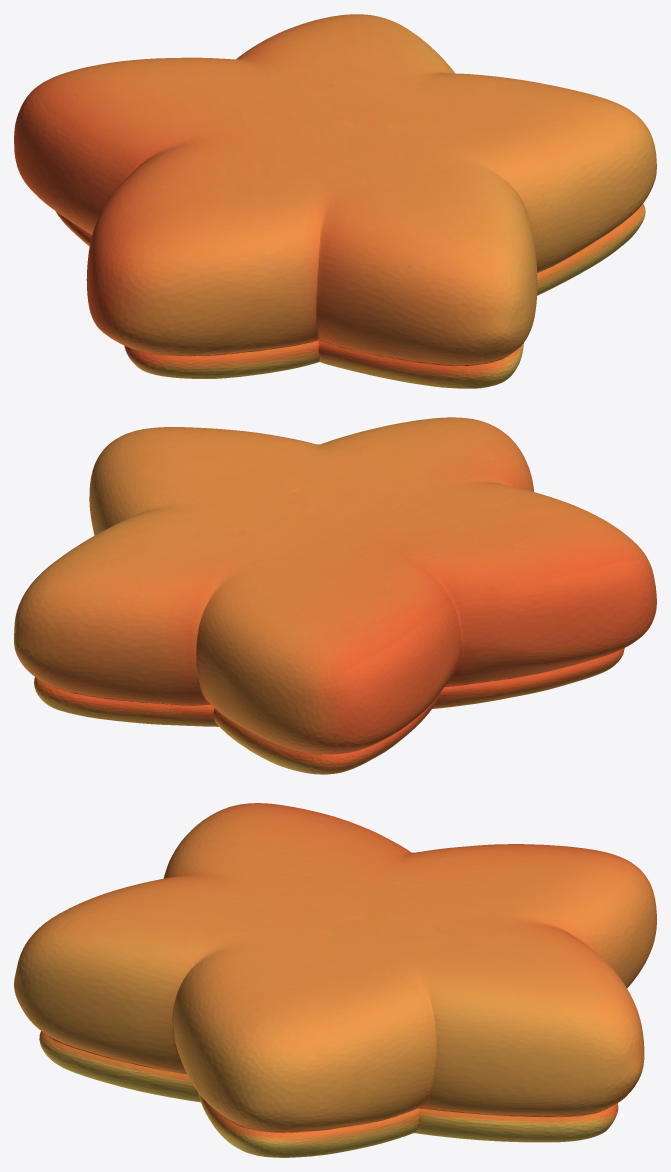
The model's file is star_7.glb.
3 renders of one model, top to bottom at view 1: azimuth 30°, elevation 25°; view 2: azimuth 150°, elevation 25°; view 3: azimuth 270°, elevation 25°, orthographic. The views are drawn at different scales.
Visible parts, largest first — view 1: tripo_node_aa8ecde8-c59e-49d6-ac88-ce8d0db9a05d; view 2: tripo_node_aa8ecde8-c59e-49d6-ac88-ce8d0db9a05d; view 3: tripo_node_aa8ecde8-c59e-49d6-ac88-ce8d0db9a05d.
Boxes of the visible parts, x1=… form: tripo_node_aa8ecde8-c59e-49d6-ac88-ce8d0db9a05d: x1=14, y1=14, x2=656, y2=388; tripo_node_aa8ecde8-c59e-49d6-ac88-ce8d0db9a05d: x1=14, y1=417, x2=656, y2=774; tripo_node_aa8ecde8-c59e-49d6-ac88-ce8d0db9a05d: x1=14, y1=803, x2=656, y2=1157.
Bounding box in the file's own units: 0.9451 × 0.2846 × 0.9588.
1 material, 1 textured.
